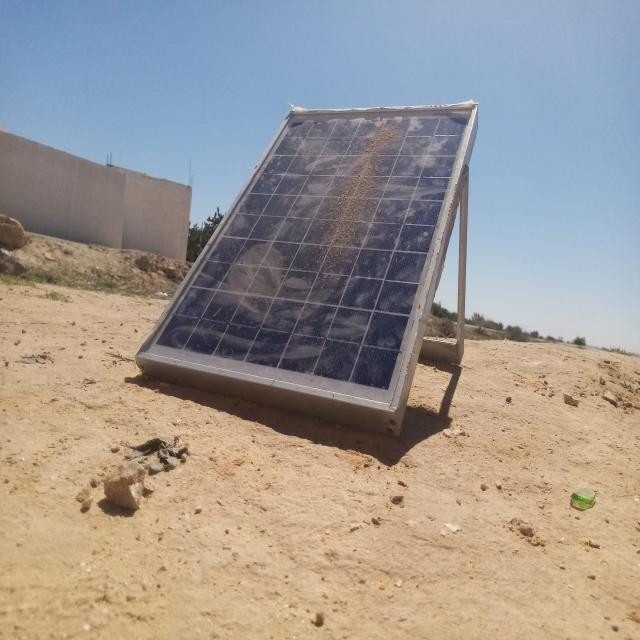faulty: (135, 104, 477, 410)
